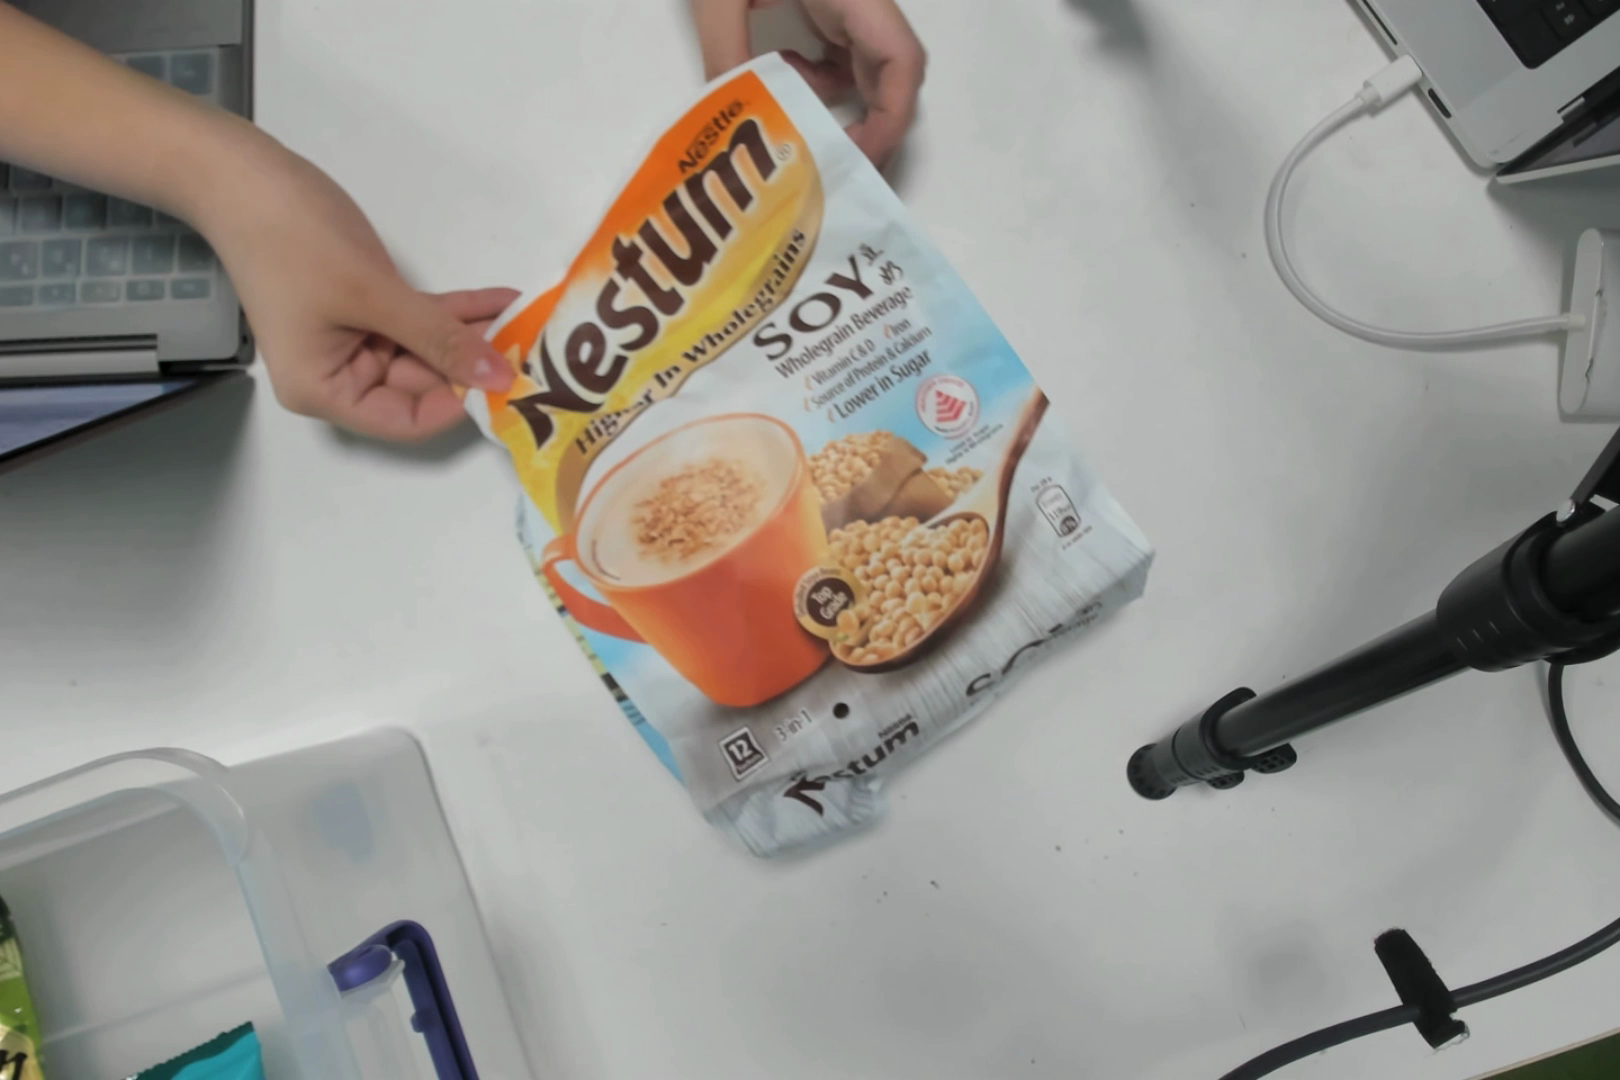e: (515, 102, 1093, 818)
